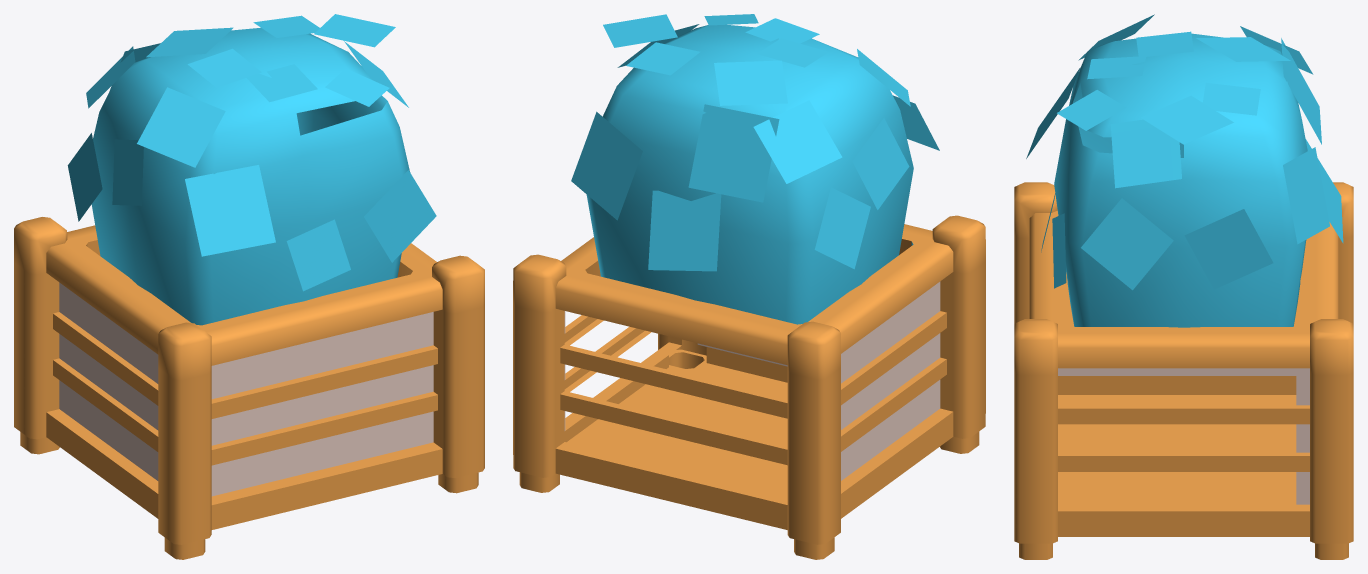
Rendered from Bush(2).fbx.
The picture shows the model from 3 angles, left to right: view 1: azimuth 30°, elevation 25°; view 2: azimuth 150°, elevation 25°; view 3: azimuth 270°, elevation 25°; orthographic projection. The views are drawn at different scales.
Visible parts, largest first — view 1: Bush; view 2: Bush; view 3: Bush.
Part boxes in pixels (x1=…): Bush: x1=14, y1=14, x2=484, y2=559; Bush: x1=513, y1=14, x2=985, y2=559; Bush: x1=1014, y1=14, x2=1353, y2=559.
Size of the model in its own units: 130 by 166 by 119.
